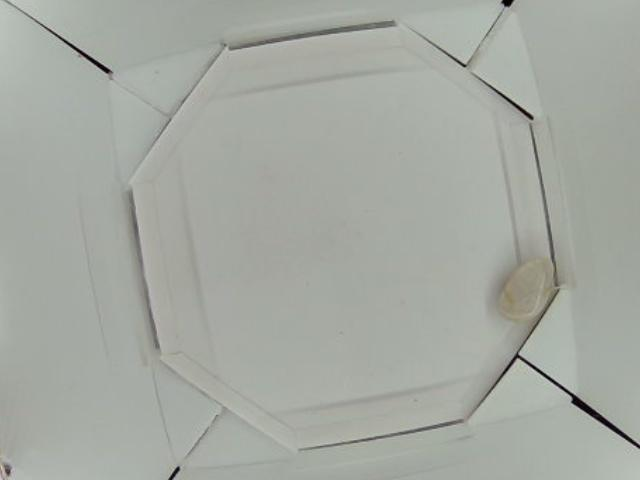Pebble: (497, 256, 550, 319)
